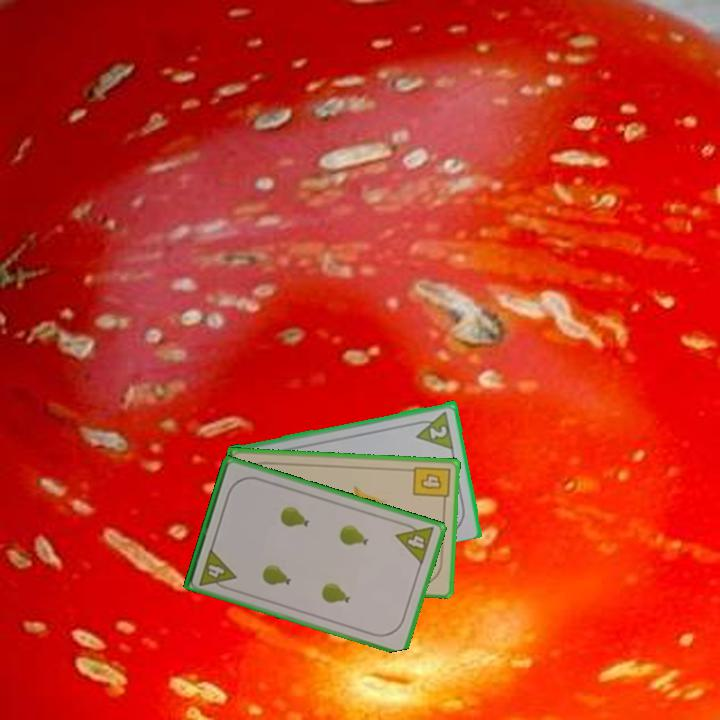2p: (410, 407, 457, 451)
4b: (409, 463, 453, 507)
4p: (392, 518, 437, 567), (195, 545, 239, 593)
